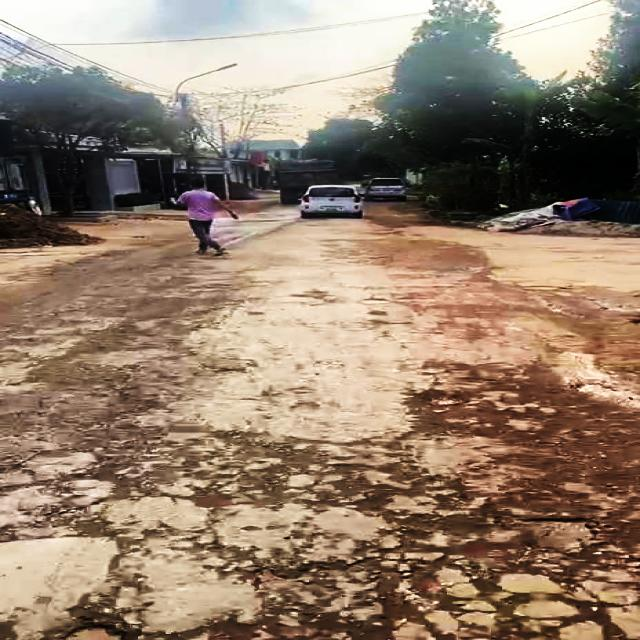pothole: (311, 559, 640, 640), (0, 504, 123, 547), (508, 512, 608, 560), (50, 619, 156, 640)
